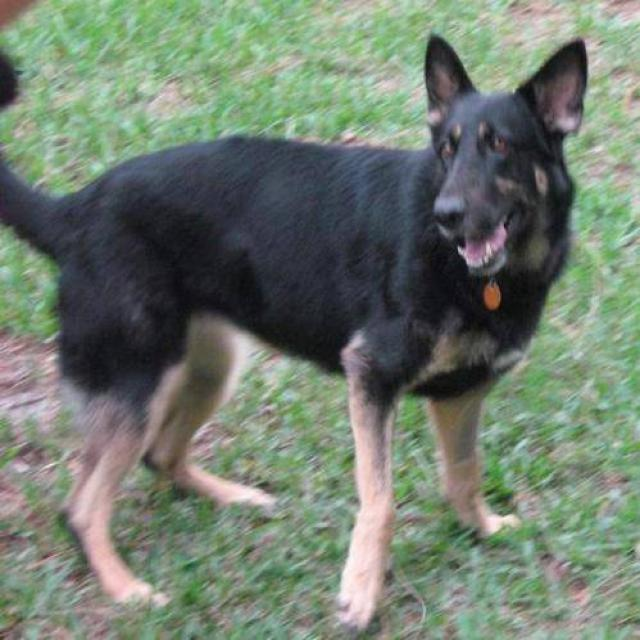dog: (0, 26, 590, 634)
